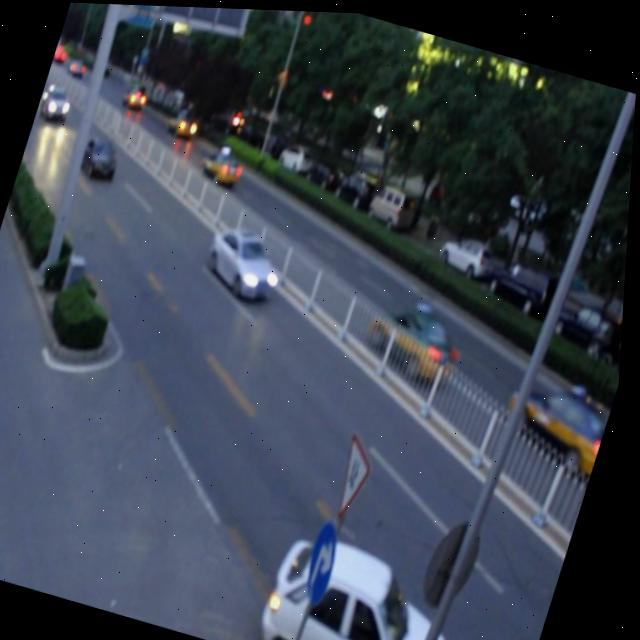car: (262, 521, 484, 640), (495, 362, 621, 478), (358, 294, 470, 383), (203, 223, 289, 301), (79, 133, 124, 181), (199, 143, 247, 187), (165, 105, 202, 143)
